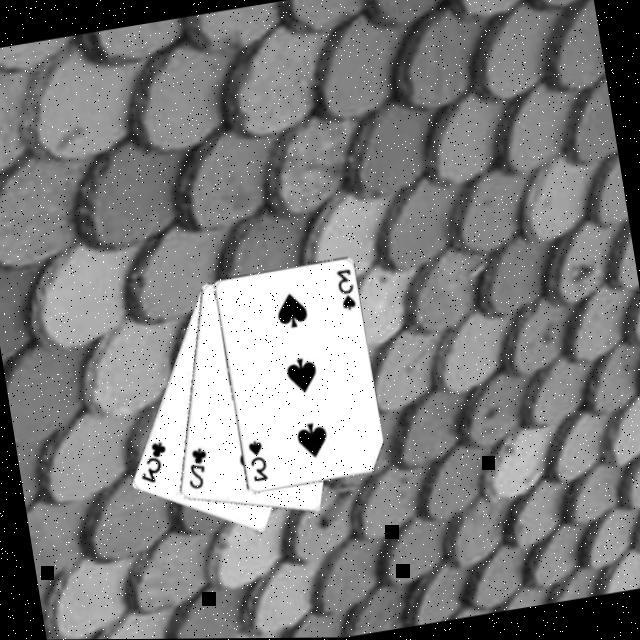2C: (182, 445, 217, 495)
3C: (135, 438, 176, 488)
3S: (246, 437, 273, 487), (334, 267, 361, 316)
